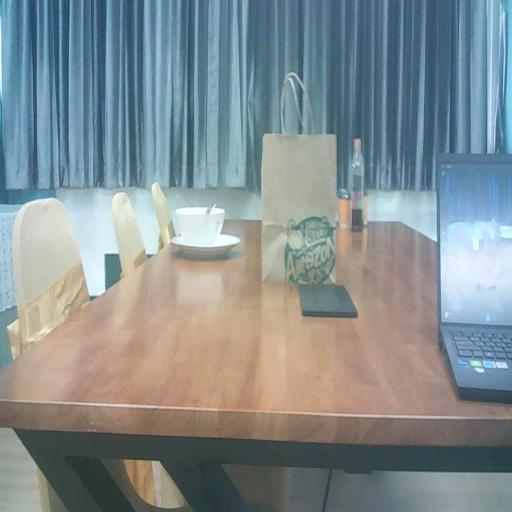bag: (258, 121, 340, 294)
